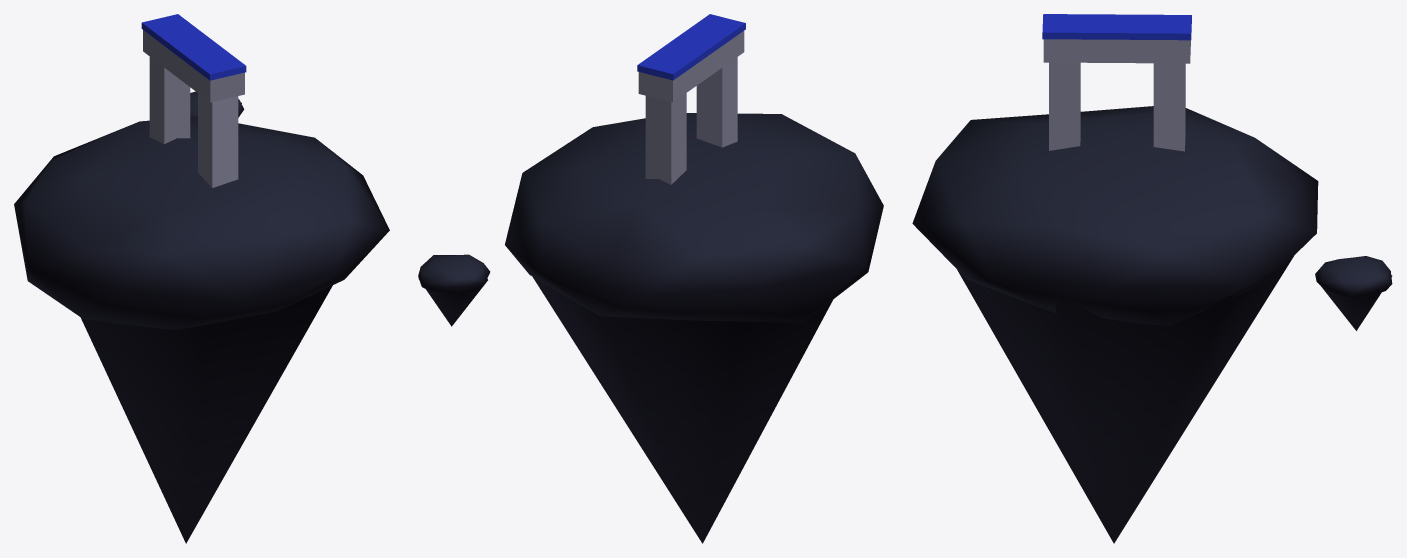
Rendered from MODULE_HOLLOW_VOID_ISLAND.fbx.
The picture shows the model from 3 angles, left to right: view 1: azimuth 30°, elevation 25°; view 2: azimuth 150°, elevation 25°; view 3: azimuth 270°, elevation 25°; orthographic projection. The views are drawn at different scales.
Parts seen in each view (by area): view 1: MODULE_HOLLOW_VOID_ISLAND_DECOR__export; view 2: MODULE_HOLLOW_VOID_ISLAND_DECOR__export; view 3: MODULE_HOLLOW_VOID_ISLAND_DECOR__export.
Boxes of the visible parts, x1=… form: MODULE_HOLLOW_VOID_ISLAND_DECOR__export: x1=14, y1=14, x2=389, y2=543; MODULE_HOLLOW_VOID_ISLAND_DECOR__export: x1=418, y1=14, x2=883, y2=543; MODULE_HOLLOW_VOID_ISLAND_DECOR__export: x1=912, y1=14, x2=1392, y2=543.
Size of the model in its own units: 39.03 by 55.31 by 45.84.
